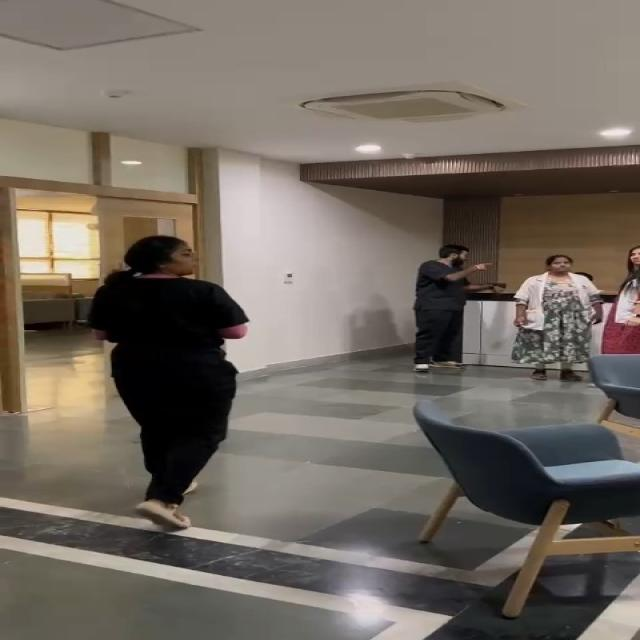floor: (0, 536, 425, 640), (262, 372, 415, 582), (0, 386, 108, 561)
furniture: (368, 388, 640, 604)
moving_object: (102, 237, 238, 534), (512, 243, 640, 369), (392, 243, 490, 391)
wall: (198, 156, 424, 354), (411, 160, 640, 242)
